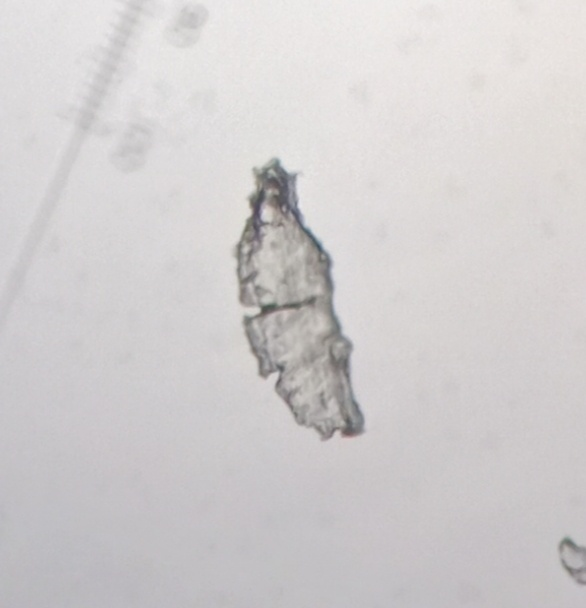microplastic: (230, 151, 377, 453)
